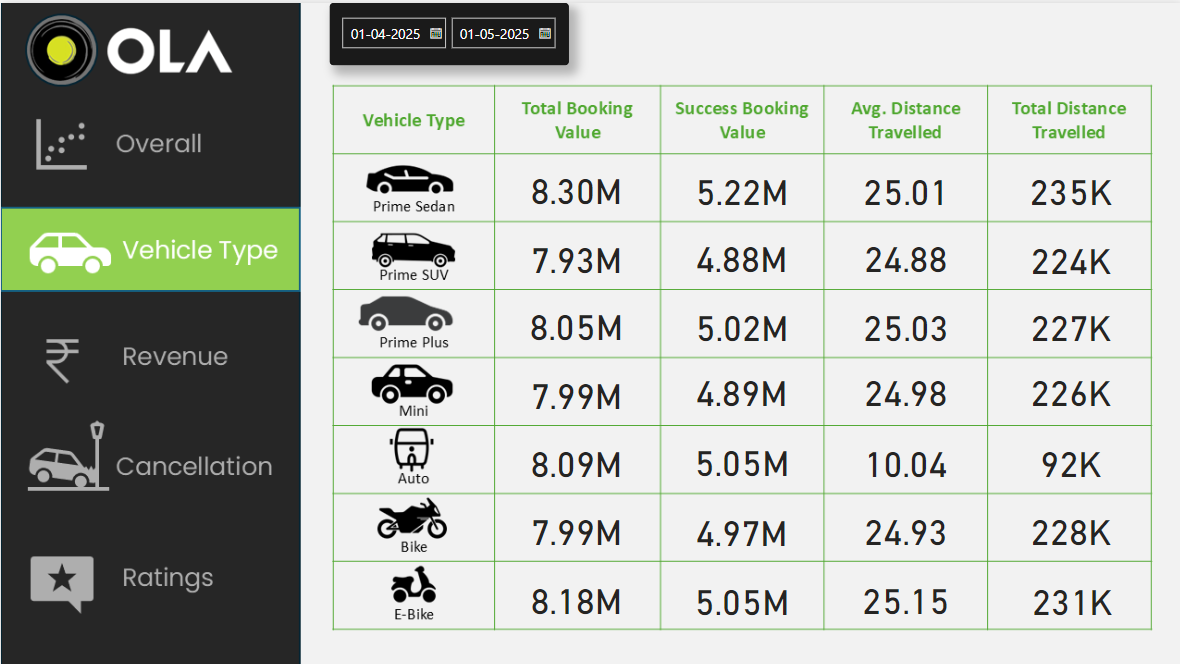

This screenshot's page, from the dashboard's own definition file:
{"tool":"powerbi","page":{"name":"Vehicle Type","canvas":[1280,720],"ordinal":1},"visuals":[{"type":"actionButton","box":[0,337.2,324.4,88.4],"z":0},{"type":"actionButton","box":[0,452.3,324.4,88.4],"z":1000},{"type":"actionButton","box":[0,576.7,324.4,88.4],"z":2000},{"type":"actionButton","box":[0,110.5,324.4,88.4],"z":3000},{"type":"card","fields":{"Values":["Sum(Bookings.Booking_Value)"]},"box":[531.2,163.8,182.5,73.8],"z":4000},{"type":"card","fields":{"Values":["Sum(Bookings.Booking_Value)"]},"box":[531.2,237.5,182.5,73.8],"z":5000},{"type":"card","fields":{"Values":["Sum(Bookings.Booking_Value)"]},"box":[531.2,311.2,182.5,73.8],"z":6000},{"type":"card","fields":{"Values":["Sum(Bookings.Booking_Value)"]},"box":[531.2,385,182.5,73.8],"z":7000},{"type":"card","fields":{"Values":["Sum(Bookings.Booking_Value)"]},"box":[531.2,458.8,182.5,73.8],"z":8000},{"type":"card","fields":{"Values":["Sum(Bookings.Booking_Value)"]},"box":[531.2,532.5,182.5,73.8],"z":9000},{"type":"card","fields":{"Values":["Sum(Bookings.Booking_Value)"]},"box":[531.2,606.2,182.5,73.8],"z":10000},{"type":"card","fields":{"Values":["Sum(Bookings.Booking_Value)"]},"box":[713.8,163.8,175,75],"z":11000},{"type":"card","fields":{"Values":["Sum(Bookings.Booking_Value)"]},"box":[713.8,236.2,175,75],"z":12000},{"type":"card","fields":{"Values":["Sum(Bookings.Booking_Value)"]},"box":[713.8,311.2,175,75],"z":13000},{"type":"card","fields":{"Values":["Sum(Bookings.Booking_Value)"]},"box":[713.8,381.2,175,75],"z":14000},{"type":"card","fields":{"Values":["Sum(Bookings.Booking_Value)"]},"box":[713.8,456.2,175,75],"z":15000},{"type":"card","fields":{"Values":["Sum(Bookings.Booking_Value)"]},"box":[713.8,532.5,175,75],"z":16000},{"type":"card","fields":{"Values":["Sum(Bookings.Booking_Value)"]},"box":[713.8,606.2,175,75],"z":17000},{"type":"card","fields":{"Values":["Avg(Bookings.Ride_Distance)"]},"box":[888.8,163.8,178.8,75],"z":18000},{"type":"card","fields":{"Values":["Avg(Bookings.Ride_Distance)"]},"box":[888.8,236.2,178.8,75],"z":19000},{"type":"card","fields":{"Values":["Avg(Bookings.Ride_Distance)"]},"box":[888.8,311.2,178.8,75],"z":20000},{"type":"card","fields":{"Values":["Avg(Bookings.Ride_Distance)"]},"box":[888.8,381.2,178.8,75],"z":21000},{"type":"card","fields":{"Values":["Avg(Bookings.Ride_Distance)"]},"box":[888.8,458.8,178.8,75],"z":22000},{"type":"card","fields":{"Values":["Avg(Bookings.Ride_Distance)"]},"box":[888.8,531.2,178.8,75],"z":23000},{"type":"card","fields":{"Values":["Avg(Bookings.Ride_Distance)"]},"box":[888.8,605,178.8,75],"z":24000},{"type":"card","fields":{"Values":["Sum(Bookings.Ride_Distance)"]},"box":[1067.5,163.8,178.8,75],"z":25000},{"type":"card","fields":{"Values":["Sum(Bookings.Ride_Distance)"]},"box":[1067.5,237.5,178.8,75],"z":26000},{"type":"card","fields":{"Values":["Sum(Bookings.Ride_Distance)"]},"box":[1067.5,311.2,178.8,75],"z":27000},{"type":"card","fields":{"Values":["Sum(Bookings.Ride_Distance)"]},"box":[1067.5,381.2,178.8,75],"z":28000},{"type":"card","fields":{"Values":["Sum(Bookings.Ride_Distance)"]},"box":[1067.5,458.8,178.8,75],"z":29000},{"type":"card","fields":{"Values":["Sum(Bookings.Ride_Distance)"]},"box":[1067.5,531.2,178.8,75],"z":30000},{"type":"card","fields":{"Values":["Sum(Bookings.Ride_Distance)"]},"box":[1068.8,606.2,178.8,75],"z":31000},{"type":"slicer","title":"Date","fields":{"Values":["Bookings.Date"]},"box":[355,0,258.8,67.5],"z":32000}]}

Visuals, with their boxes on the page's 1280x720 design canvas (x1, y1, x2, y2). These are canvas units, not pixel positions in the 1180x664 screenshot, which may show the page scaled, cropped or inside an application window:
actionButton: detection(0, 337, 324, 426)
actionButton: detection(0, 452, 324, 541)
actionButton: detection(0, 577, 324, 665)
actionButton: detection(0, 110, 324, 199)
card - Sum(Bookings.Booking_Value): detection(531, 164, 714, 238)
card - Sum(Bookings.Booking_Value): detection(531, 238, 714, 311)
card - Sum(Bookings.Booking_Value): detection(531, 311, 714, 385)
card - Sum(Bookings.Booking_Value): detection(531, 385, 714, 459)
card - Sum(Bookings.Booking_Value): detection(531, 459, 714, 533)
card - Sum(Bookings.Booking_Value): detection(531, 532, 714, 606)
card - Sum(Bookings.Booking_Value): detection(531, 606, 714, 680)
card - Sum(Bookings.Booking_Value): detection(714, 164, 889, 239)
card - Sum(Bookings.Booking_Value): detection(714, 236, 889, 311)
card - Sum(Bookings.Booking_Value): detection(714, 311, 889, 386)
card - Sum(Bookings.Booking_Value): detection(714, 381, 889, 456)
card - Sum(Bookings.Booking_Value): detection(714, 456, 889, 531)
card - Sum(Bookings.Booking_Value): detection(714, 532, 889, 608)
card - Sum(Bookings.Booking_Value): detection(714, 606, 889, 681)
card - Avg(Bookings.Ride_Distance): detection(889, 164, 1068, 239)
card - Avg(Bookings.Ride_Distance): detection(889, 236, 1068, 311)
card - Avg(Bookings.Ride_Distance): detection(889, 311, 1068, 386)
card - Avg(Bookings.Ride_Distance): detection(889, 381, 1068, 456)
card - Avg(Bookings.Ride_Distance): detection(889, 459, 1068, 534)
card - Avg(Bookings.Ride_Distance): detection(889, 531, 1068, 606)
card - Avg(Bookings.Ride_Distance): detection(889, 605, 1068, 680)
card - Sum(Bookings.Ride_Distance): detection(1068, 164, 1246, 239)
card - Sum(Bookings.Ride_Distance): detection(1068, 238, 1246, 312)
card - Sum(Bookings.Ride_Distance): detection(1068, 311, 1246, 386)
card - Sum(Bookings.Ride_Distance): detection(1068, 381, 1246, 456)
card - Sum(Bookings.Ride_Distance): detection(1068, 459, 1246, 534)
card - Sum(Bookings.Ride_Distance): detection(1068, 531, 1246, 606)
card - Sum(Bookings.Ride_Distance): detection(1069, 606, 1248, 681)
"Date" slicer: detection(355, 0, 614, 68)
